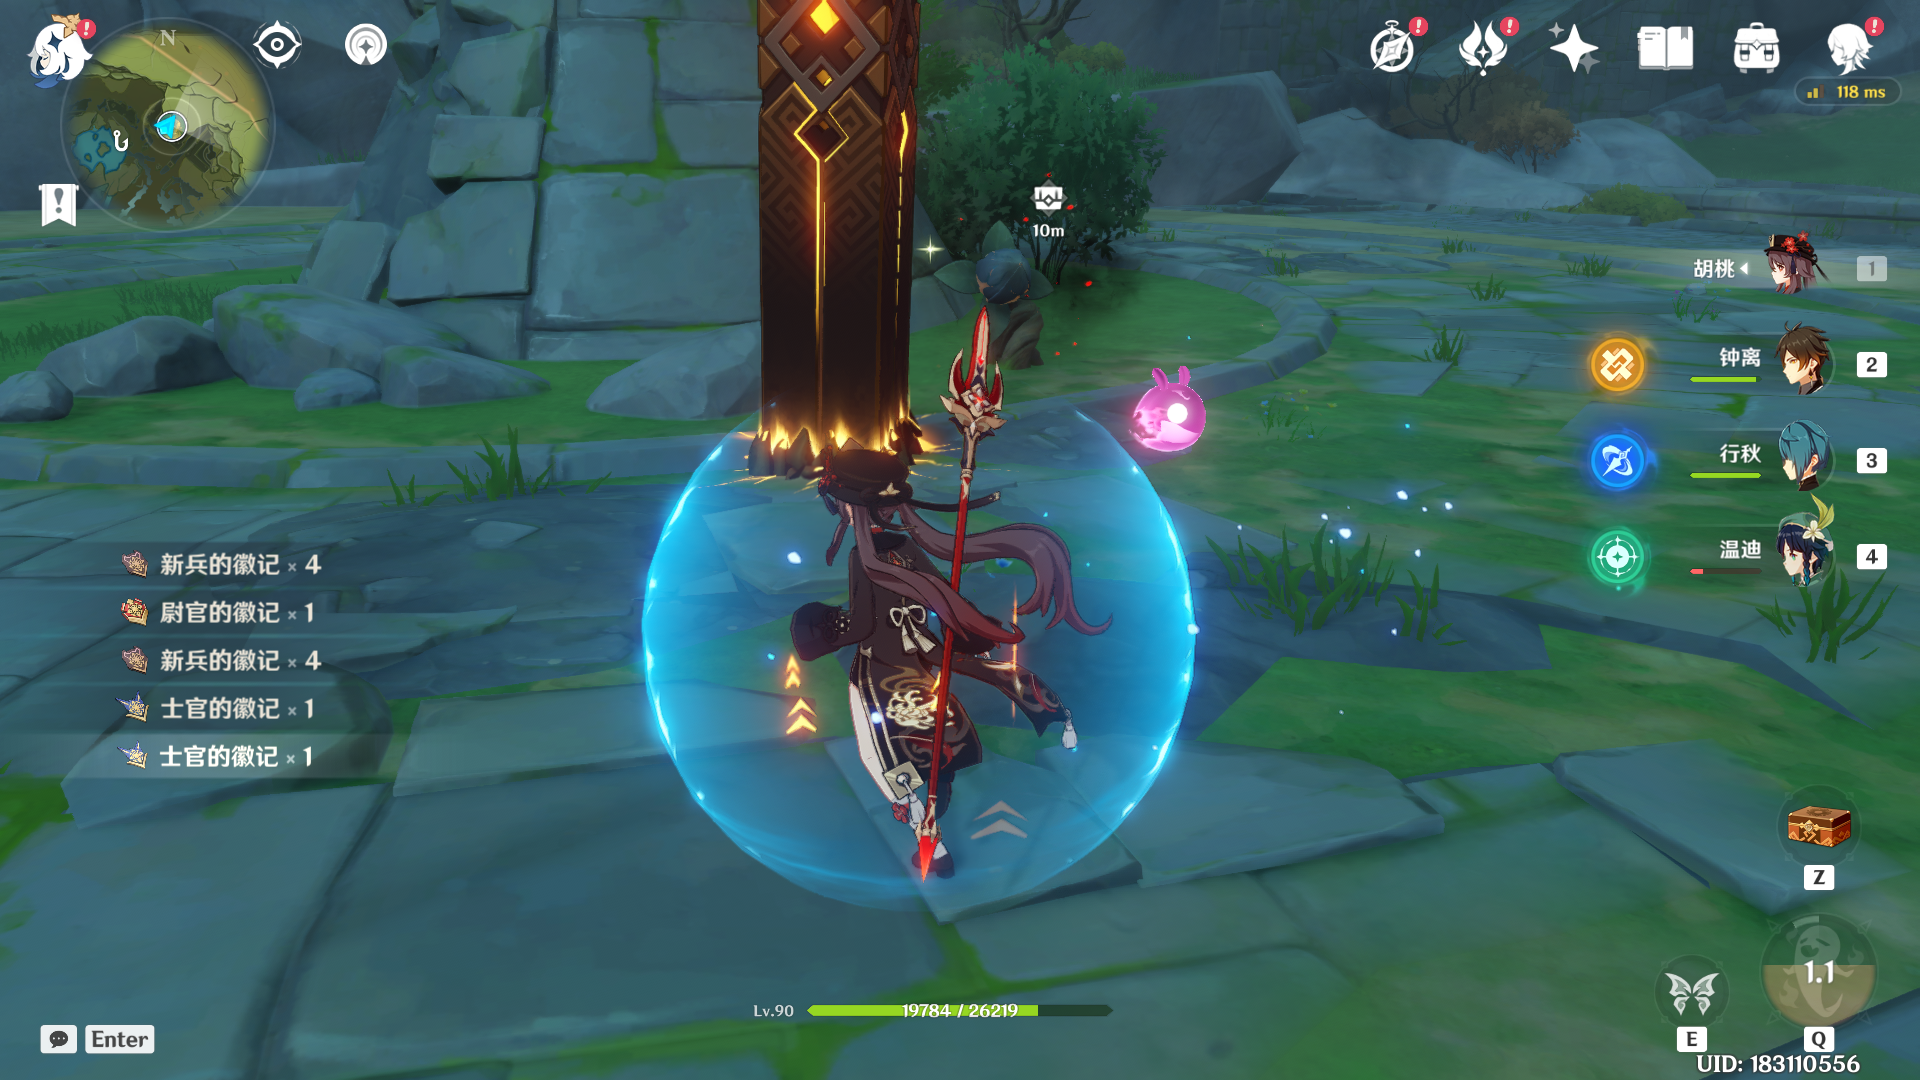character: (733, 400, 1126, 913)
